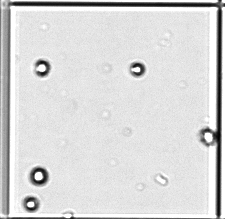Living Cell: (30, 168, 47, 185), (130, 61, 146, 77), (34, 60, 49, 76), (201, 129, 215, 146), (24, 197, 38, 211)
